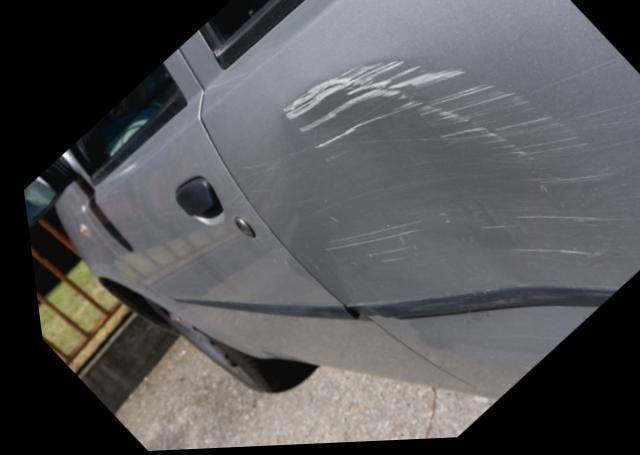dent: (273, 84, 577, 369)
scratch: (313, 61, 640, 274)
